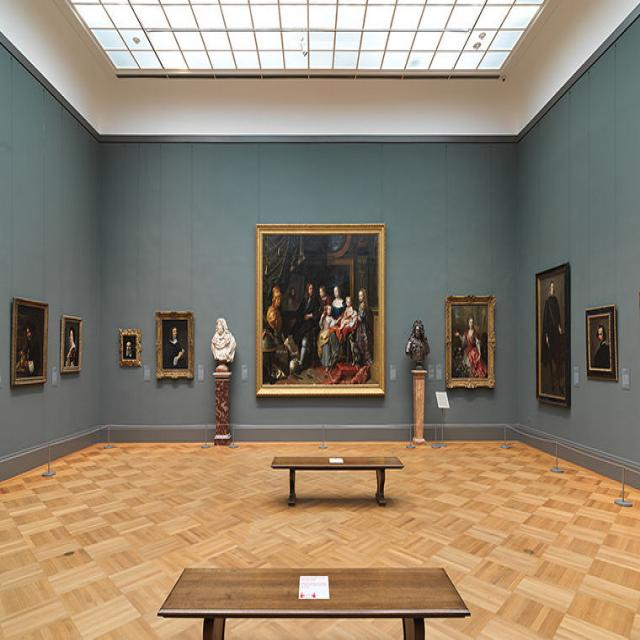Tablo: (262, 234, 380, 386), (540, 271, 565, 398), (451, 305, 488, 378), (15, 303, 45, 378), (162, 319, 189, 369), (589, 315, 610, 369), (64, 320, 79, 367), (122, 335, 136, 360)
